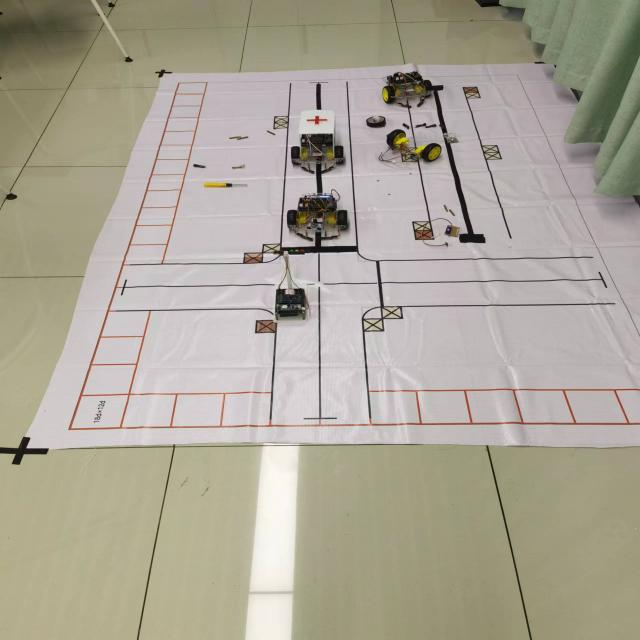RedCross: (305, 113, 329, 127)
